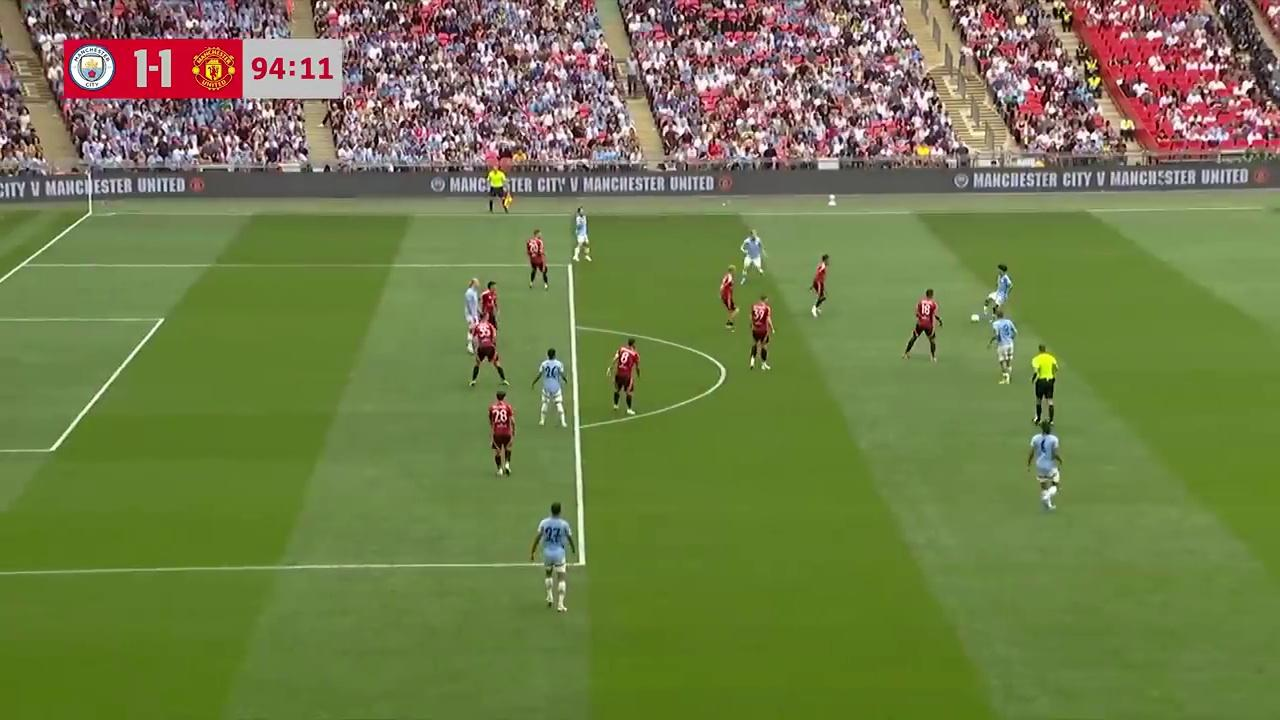ball: (969, 309, 980, 323)
player: (529, 502, 577, 612), (1026, 420, 1063, 510), (902, 288, 943, 363), (531, 346, 568, 427), (468, 312, 508, 386), (606, 338, 640, 414), (487, 391, 516, 477), (987, 308, 1018, 385), (972, 263, 1012, 319), (747, 295, 775, 372), (526, 228, 549, 291), (463, 277, 484, 341), (739, 229, 766, 278), (809, 253, 829, 317), (719, 267, 739, 331), (570, 206, 592, 263), (479, 279, 501, 329)
referee: (1030, 343, 1060, 426), (486, 164, 511, 215)
